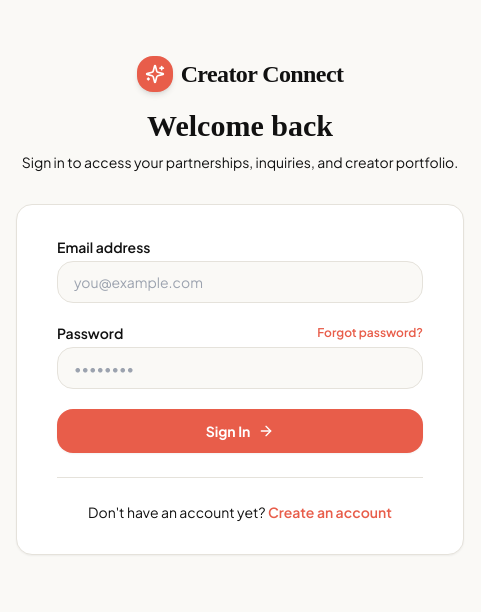
Phase 18 Part 3 — Accessibility Hardening Test Suite › LoginPage Error Accessibility › announces authentication errors with role="alert"
Type "test@example.com" into the field labelled "Email address" at (240, 282), box [57,260,423,302]
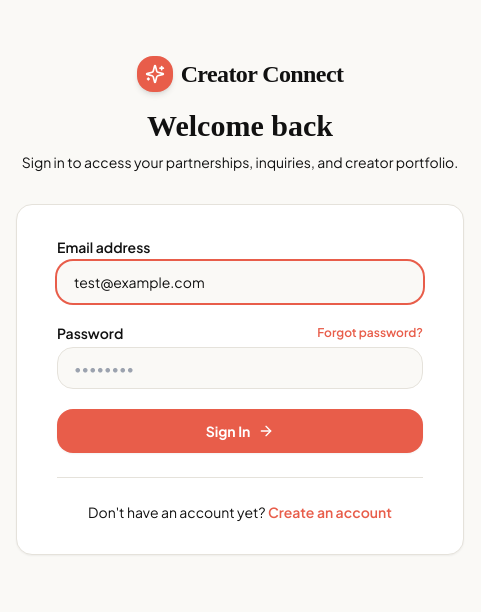
Type "wrongpassword" into the password field labelled "Password" at (240, 368), box [57,346,423,388]
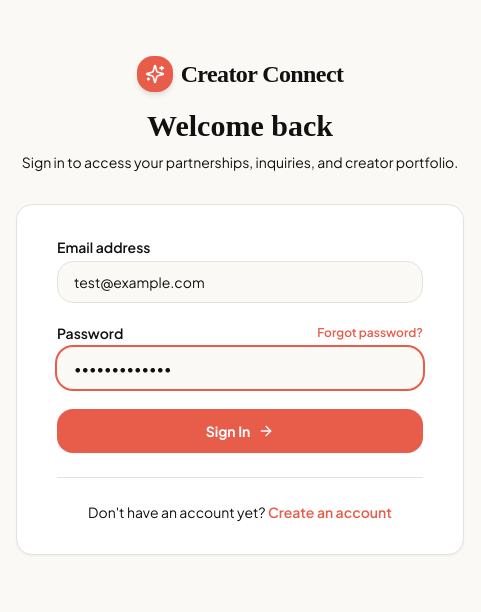
Click the button "Sign In" at (240, 430), box [57,408,423,452]
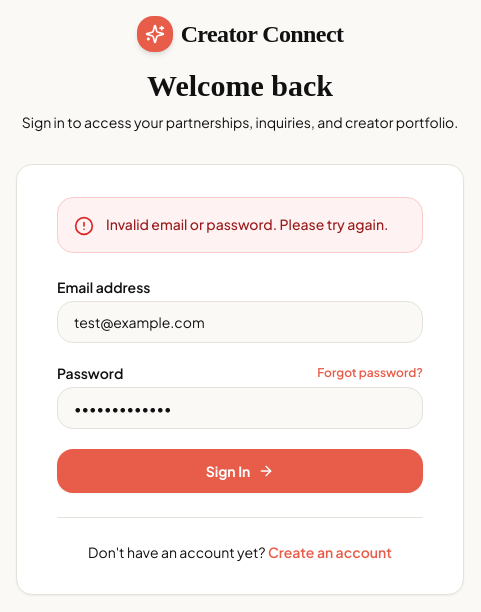
Now the message "Invalid email or password. Please try again." is shown, box [57,196,423,252]
Now the message reads "Invalid email or password. Please try again.", box [106,214,388,232]
